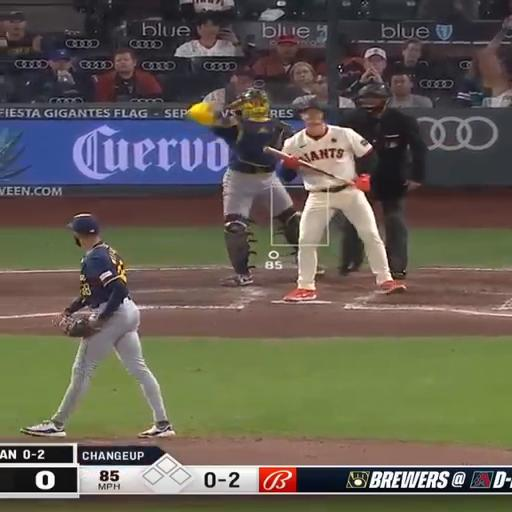bat: (299, 159, 353, 184)
